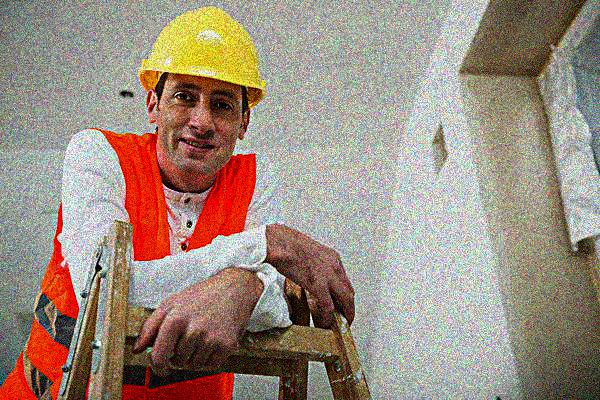helmet: (135, 1, 266, 176)
